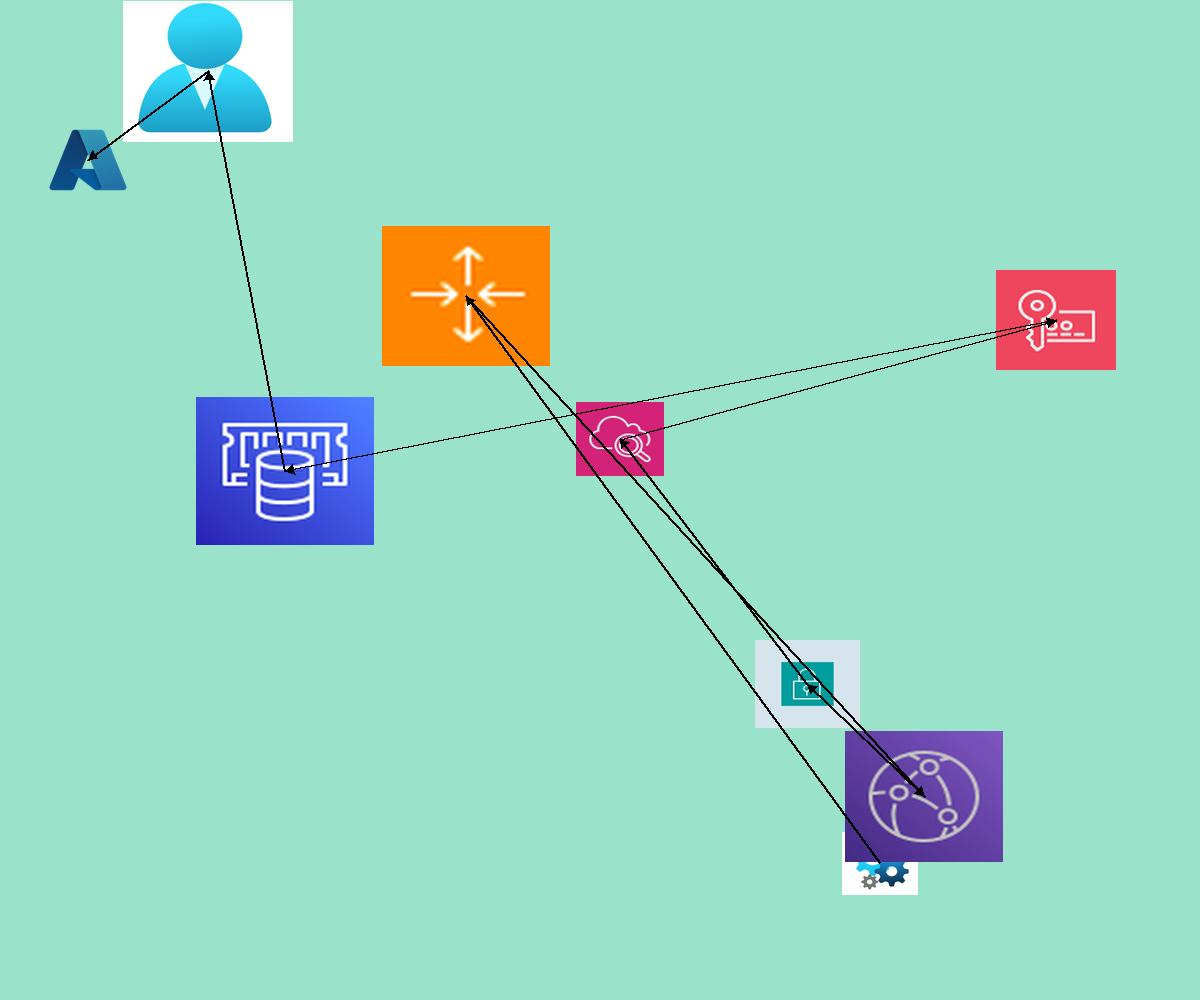AWS-CloudFront: (845, 731, 1003, 862)
AWS-CloudWatch: (576, 402, 664, 476)
AWS-ElastiCache: (196, 397, 374, 545)
AWS-Key-Management-Service: (996, 270, 1116, 370)
AWS-Private-subnet: (755, 640, 860, 728)
AWS-Scaling-group: (382, 226, 550, 366)
Azure_api: (842, 832, 918, 895)
Azure_services: (46, 125, 130, 195)
Azure_users: (123, 1, 293, 142)
